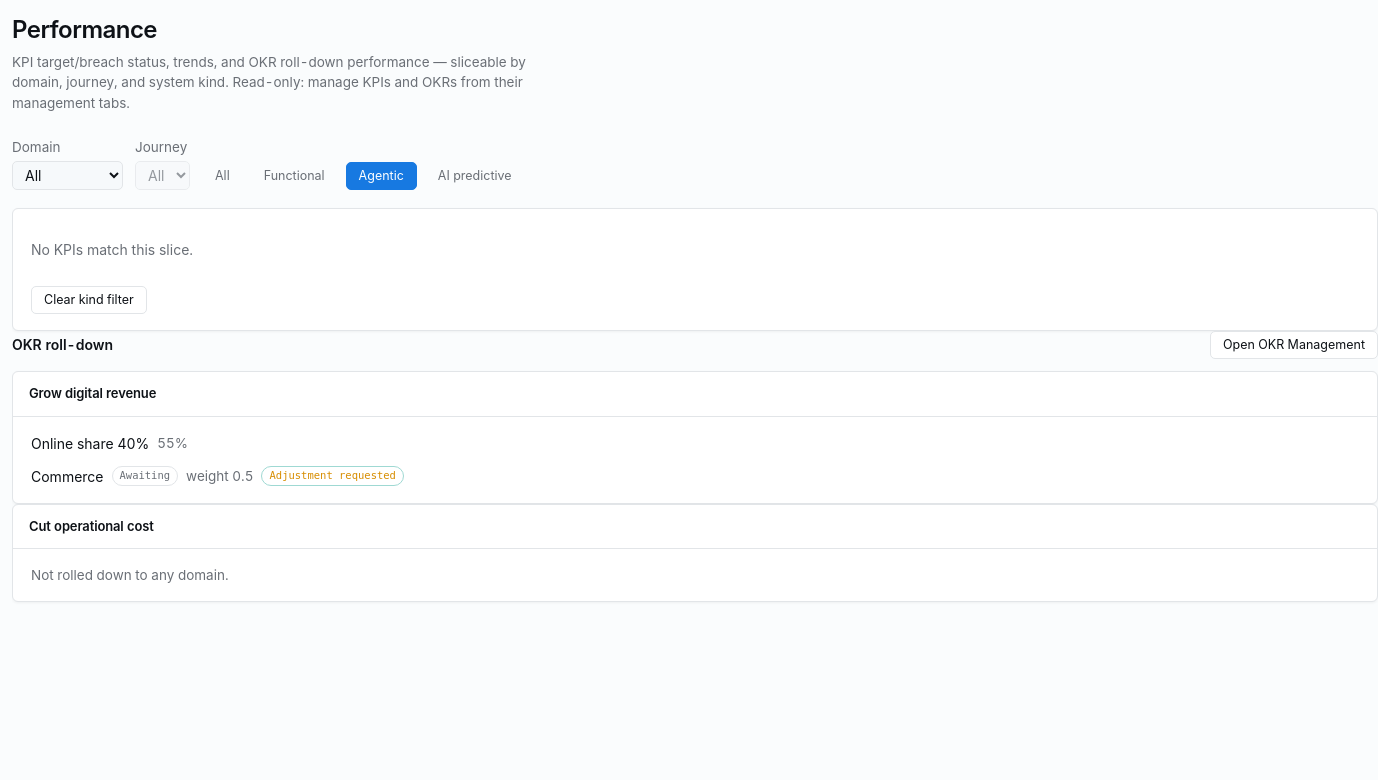
it: PerformanceDashboard — AC-09 empty variants › active slice matching zero KPIs → distinct message + working clear-slice affordance
The image size is (1378, 780).
expect the element with test id "empty-slice" shows "No KPIs match this slice": met, box [31,241,193,258]
Click the button "Clear kind filter".
click(89, 300)  # box [31,286,147,314]
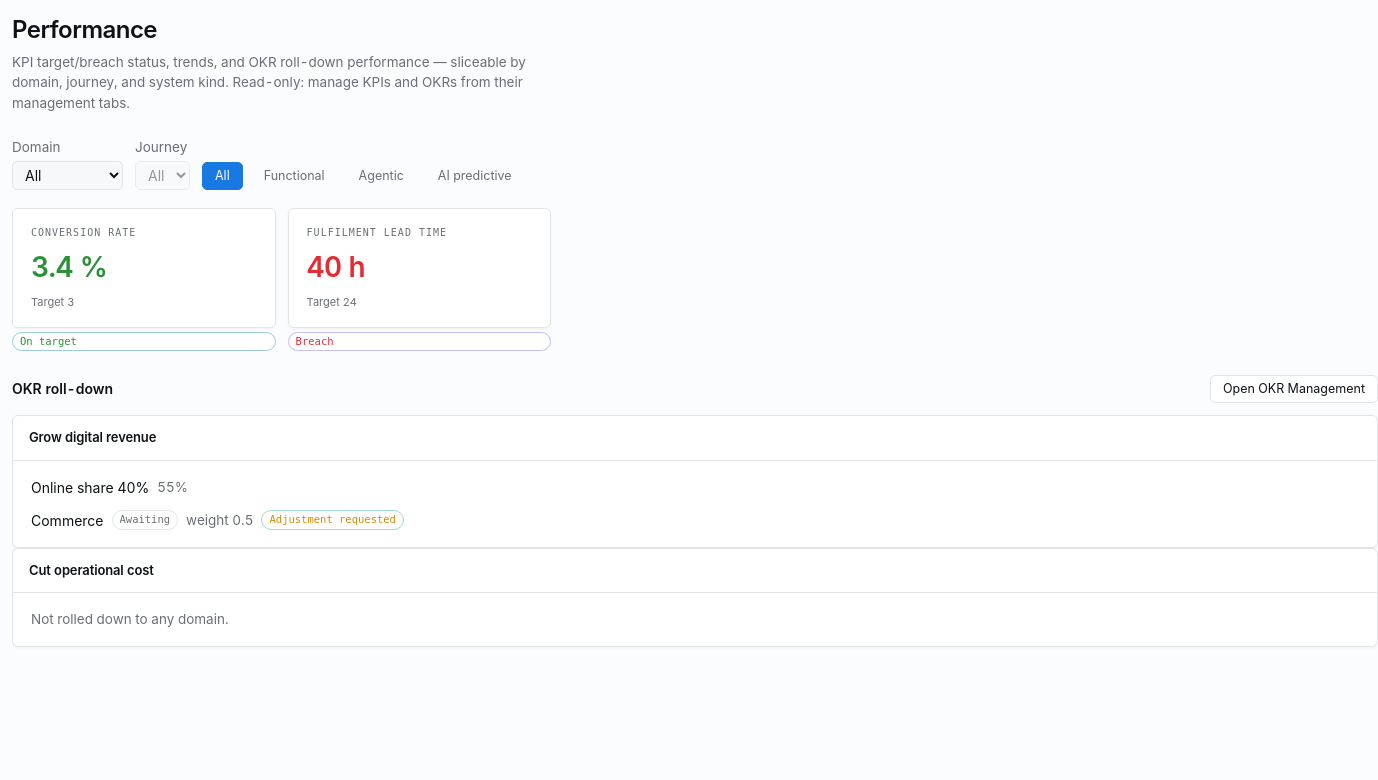
expect the text "Conversion rate" is shown: met, box [31,227,136,238]
